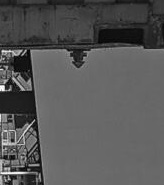twist_lock_2: (62, 45, 91, 73)
